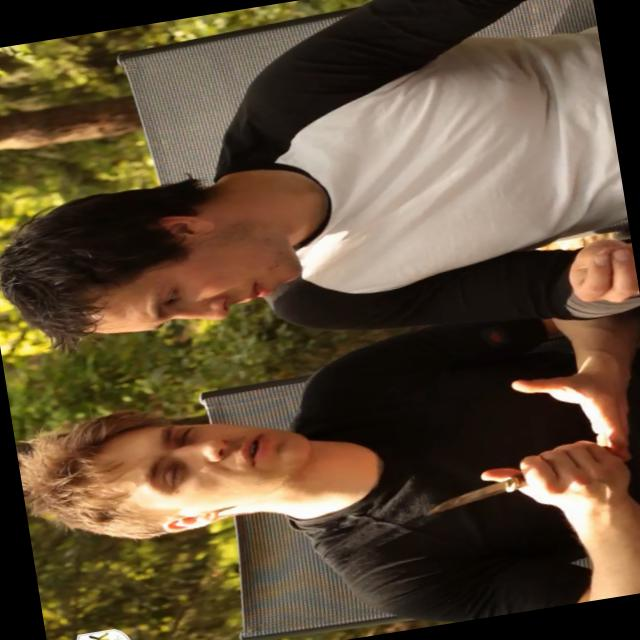knife: (397, 436, 594, 540)
